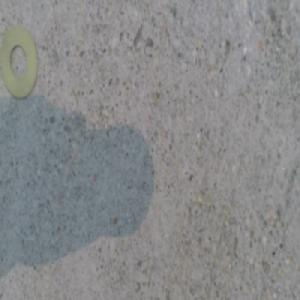Washer: (3, 28, 38, 100)
